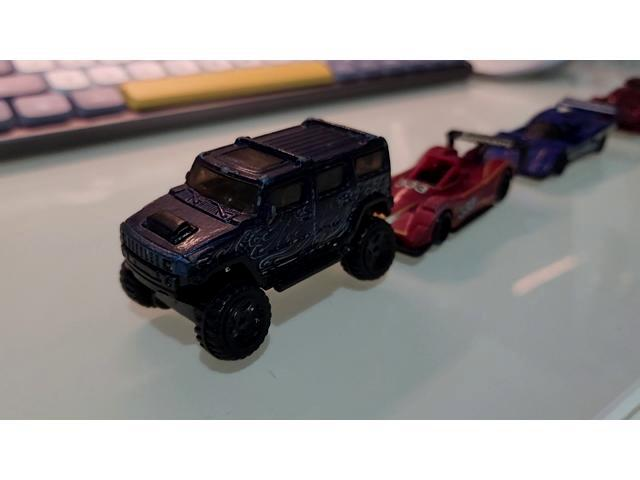toy-car: (118, 117, 398, 362), (392, 128, 522, 260), (492, 96, 619, 181)
